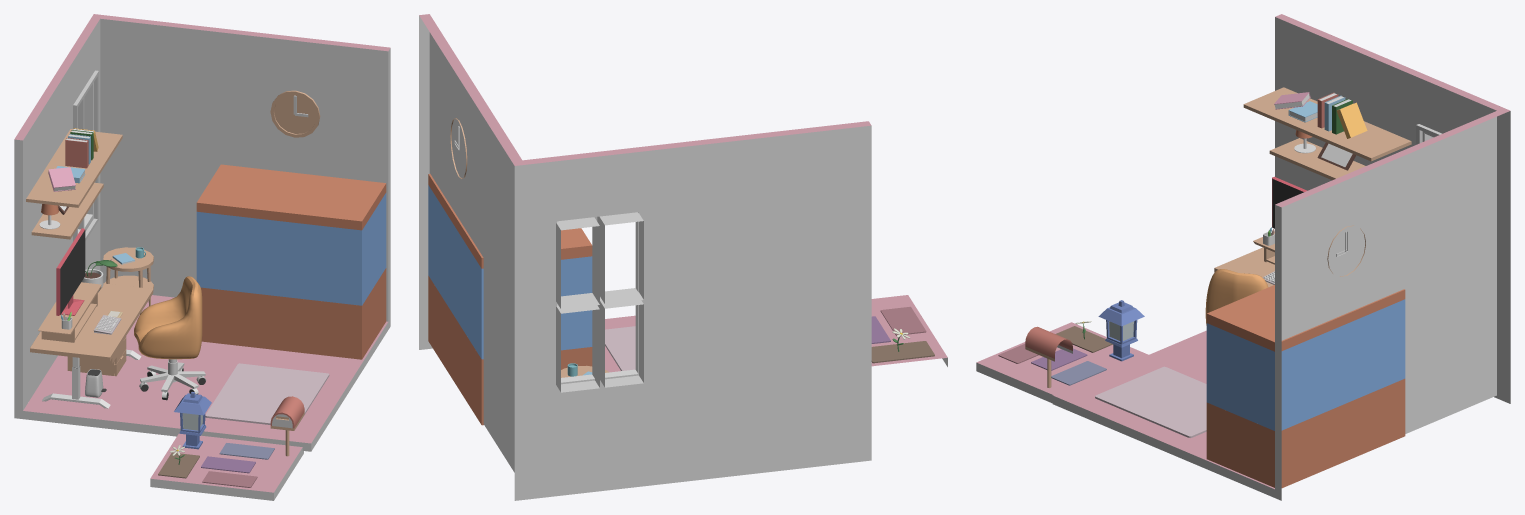
Rendered from room.glb.
3 views of the same model, side by side, from view 1: azimuth 30°, elevation 25°; view 2: azimuth 150°, elevation 25°; view 3: azimuth 270°, elevation 25° (orthographic). The views are drawn at different scales.
Visible parts, largest first — view 1: Cube.003, Cube.064, Fish Glass, Cube.072, Plane.016, Cube.063, Table Top, Plane.001, Cylinder.014, Table Top.002, Plane, Screen (+13 smaller); view 2: Cube.003, Fish Glass, Plane.009, Cube.064, Cube.072, Plane.016, Plane.019, Plane.022; view 3: Cube.003, Fish Glass, Cube.064, Plane.016, Cube.072, Plane.001, Cube.063, Plane, Plane.014, Cylinder.016, Table Top, Plane.019 (+3 smaller).
Boxes of the visible parts, box(x1,y1,x2,y2) form: Cube.003: box(14, 14, 390, 451); Cube.064: box(196, 164, 386, 359); Fish Glass: box(196, 193, 386, 305); Cube.072: box(150, 433, 303, 500); Plane.016: box(205, 363, 329, 424); Cube.063: box(134, 276, 202, 359); Table Top: box(30, 283, 153, 361); Plane.001: box(26, 129, 122, 207); Cylinder.014: box(270, 90, 320, 137); Table Top.002: box(38, 282, 101, 342); Plane: box(31, 182, 103, 239); Screen: box(60, 230, 85, 314); Cube.003: box(419, 14, 871, 500); Fish Glass: box(428, 185, 592, 359); Plane.009: box(556, 212, 643, 392); Cube.064: box(428, 174, 592, 425); Cube.072: box(871, 295, 947, 366); Plane.016: box(605, 326, 635, 370); Plane.019: box(871, 341, 934, 363); Plane.022: box(880, 306, 926, 335); Cube.003: box(1052, 14, 1510, 500); Fish Glass: box(1206, 299, 1405, 430); Cube.064: box(1206, 285, 1405, 488); Plane.016: box(1095, 366, 1206, 437); Cube.072: box(976, 322, 1148, 403); Plane.001: box(1243, 87, 1411, 161); Cube.063: box(1205, 269, 1268, 325); Plane: box(1269, 138, 1365, 180); Plane.014: box(1098, 300, 1144, 361); Cylinder.016: box(1025, 326, 1072, 387); Table Top: box(1214, 247, 1274, 287); Plane.019: box(1055, 326, 1112, 352).
Bounding box in the file's own units: 35.43 × 25.47 × 41.35.
